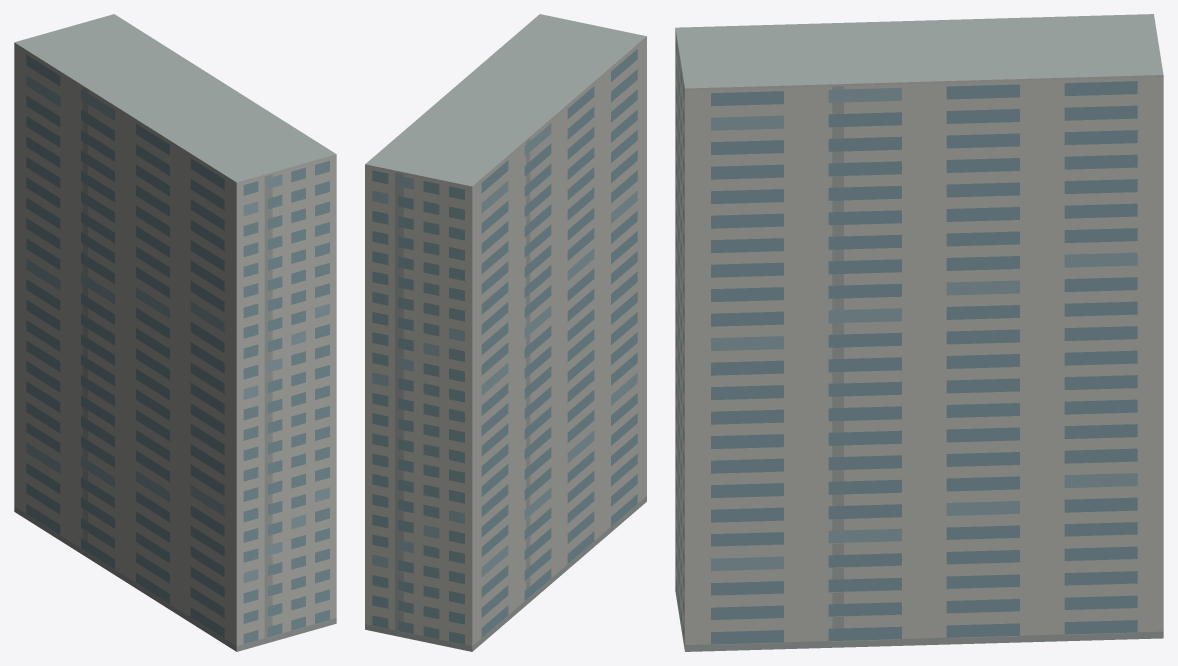
Rendered from residential-cdad4afb-fecc-45d8-8883-7a6cd943e127.glb.
3 views of the same model, side by side, from view 1: azimuth 30°, elevation 25°; view 2: azimuth 150°, elevation 25°; view 3: azimuth 270°, elevation 25° (orthographic). The views are drawn at different scales.
Parts seen in each view (by area): view 1: residential-cdad4afb-fecc-45d8-8883-7a6cd943e127.tmp; view 2: residential-cdad4afb-fecc-45d8-8883-7a6cd943e127.tmp; view 3: residential-cdad4afb-fecc-45d8-8883-7a6cd943e127.tmp.
Boxes of the visible parts, x1=… form: residential-cdad4afb-fecc-45d8-8883-7a6cd943e127.tmp: x1=14, y1=14, x2=336, y2=651; residential-cdad4afb-fecc-45d8-8883-7a6cd943e127.tmp: x1=365, y1=14, x2=646, y2=651; residential-cdad4afb-fecc-45d8-8883-7a6cd943e127.tmp: x1=675, y1=14, x2=1163, y2=651.
Size of the model in its own units: 18.16 by 64 by 50.26.
